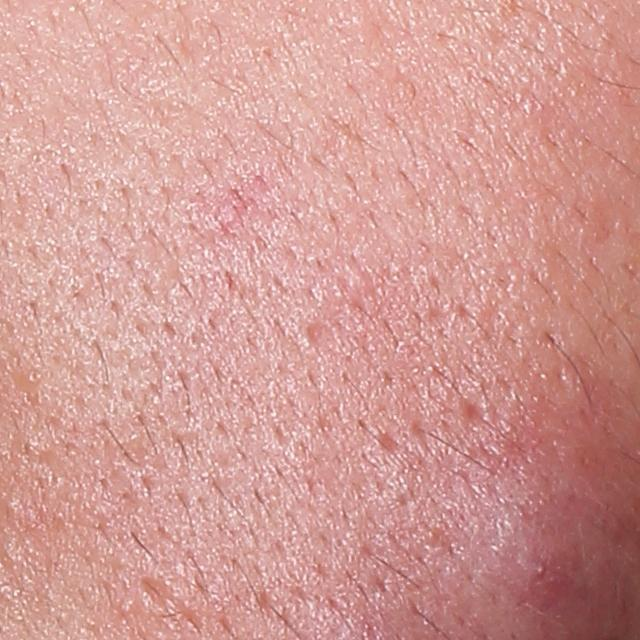atrophic_scar: (136, 574, 183, 621), (296, 317, 334, 350), (460, 394, 491, 428), (375, 427, 406, 455)
